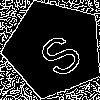S: (29, 24, 86, 81)
